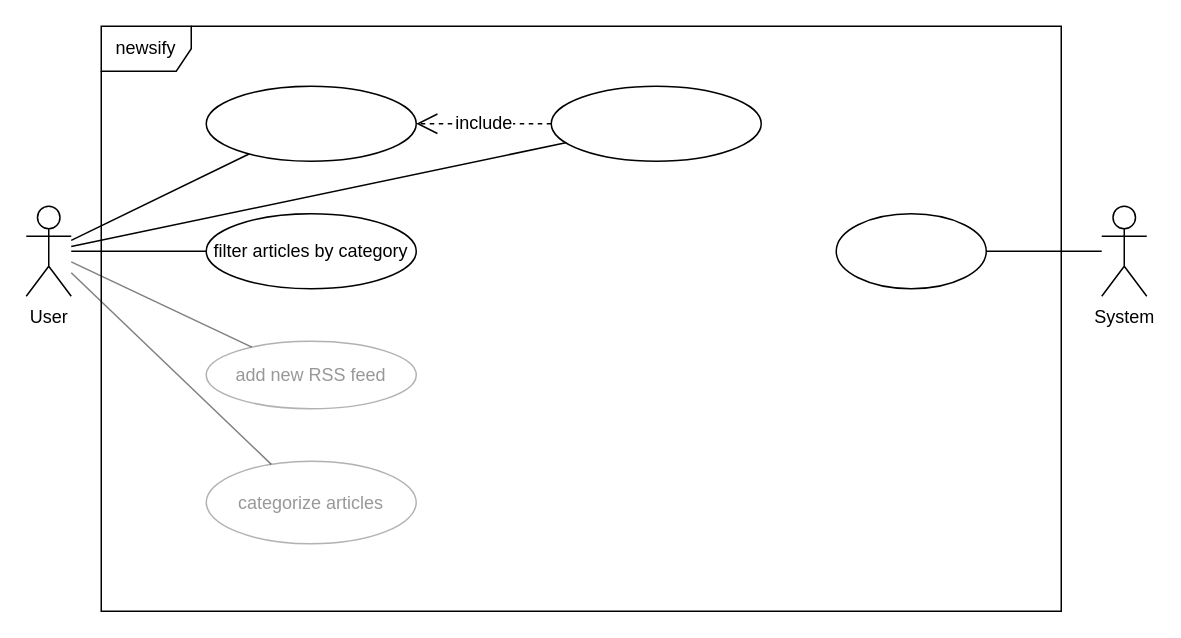
This 1181x638 diagram has some shape labels left out. Here are the shapes that lost their labels. From the top down, the centre of each, then its label:
the point at 310,123: view feed
the point at 655,123: open article in web
the point at 910,250: Poll News
